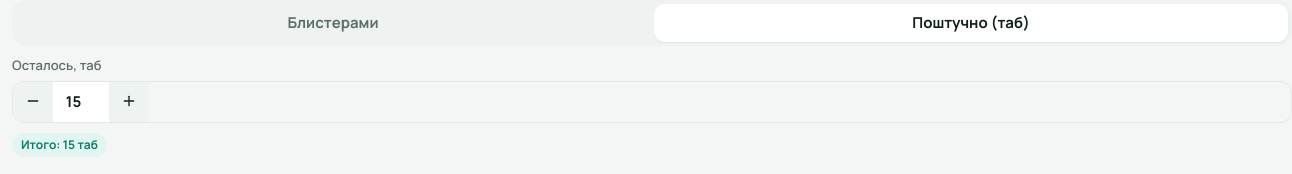
QuantityInput › дробные остатки: пол-блистера
The width and height of the screenshot is (1292, 174).
Click the tab "Блистерами".
click(333, 23)  # box [16, 4, 650, 42]
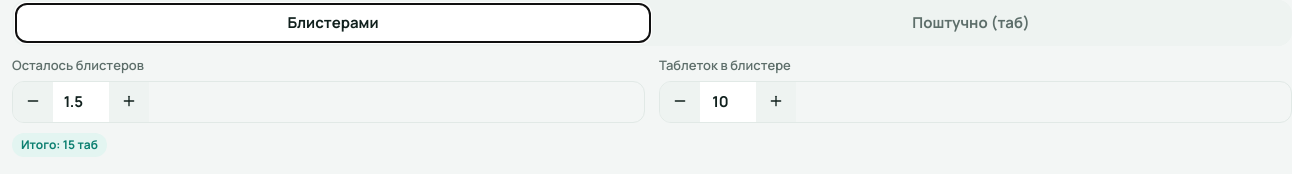
Now the number field named "Осталось блистеров" holds "1.5", box [53, 82, 109, 122]
Click the tab "Поштучно (таб)".
click(971, 23)  # box [654, 4, 1288, 42]
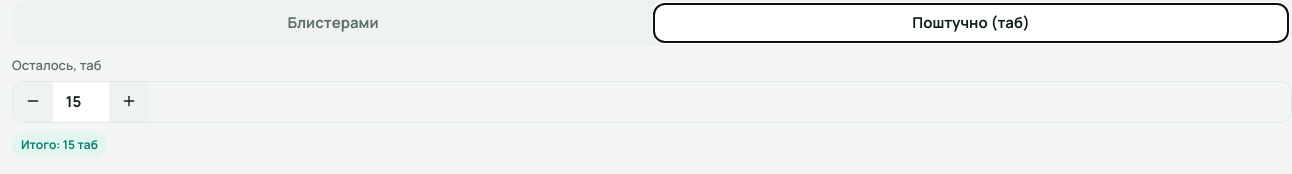
Now the number field named "Осталось, таб" holds "15", box [53, 82, 109, 122]
